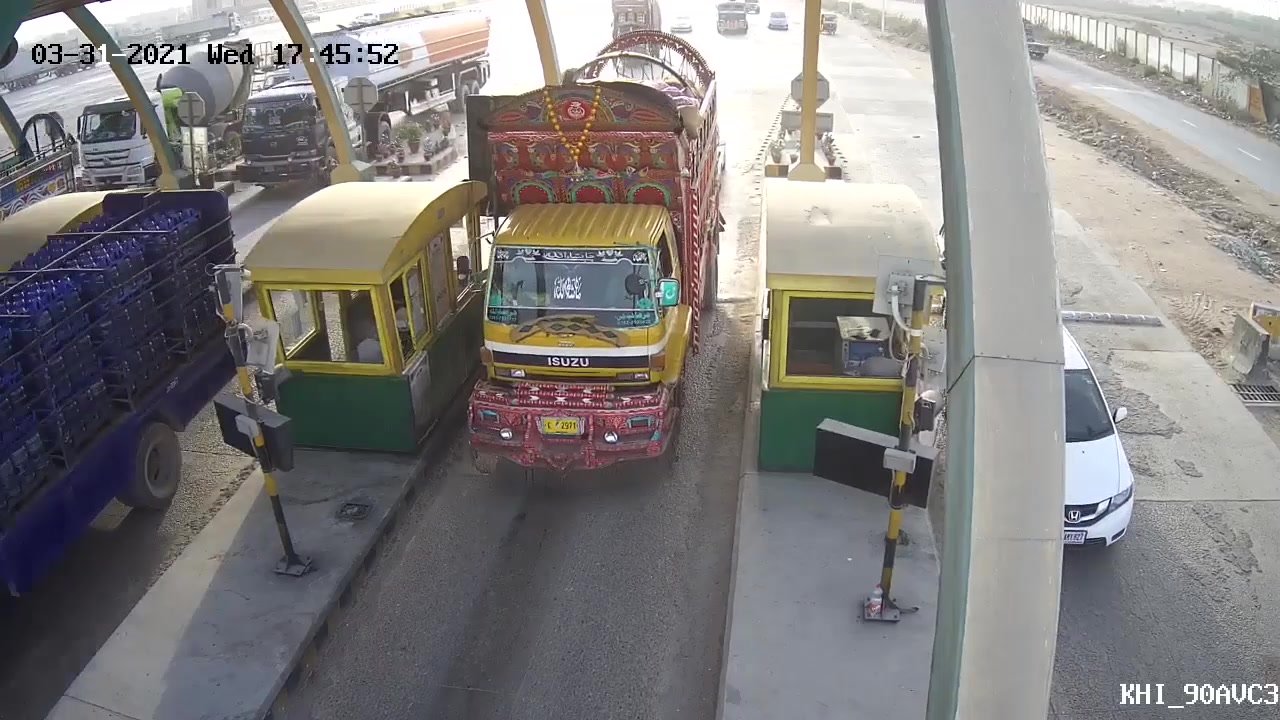F5: (455, 33, 731, 484)
